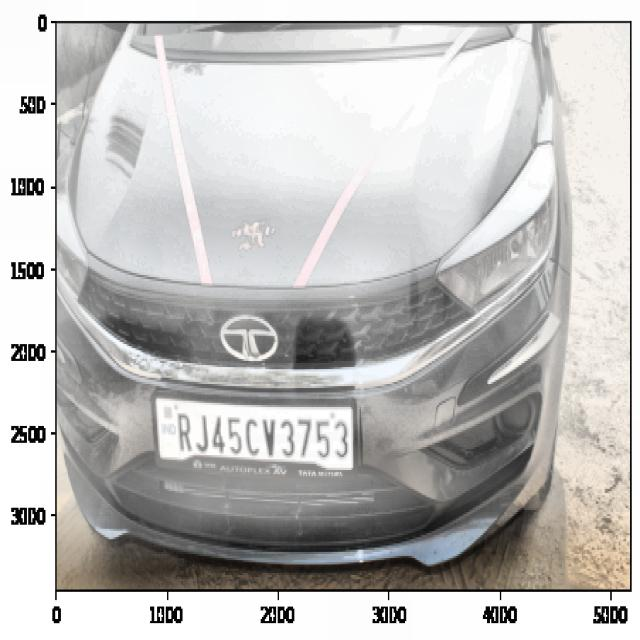license_plate: (169, 402, 352, 471)
